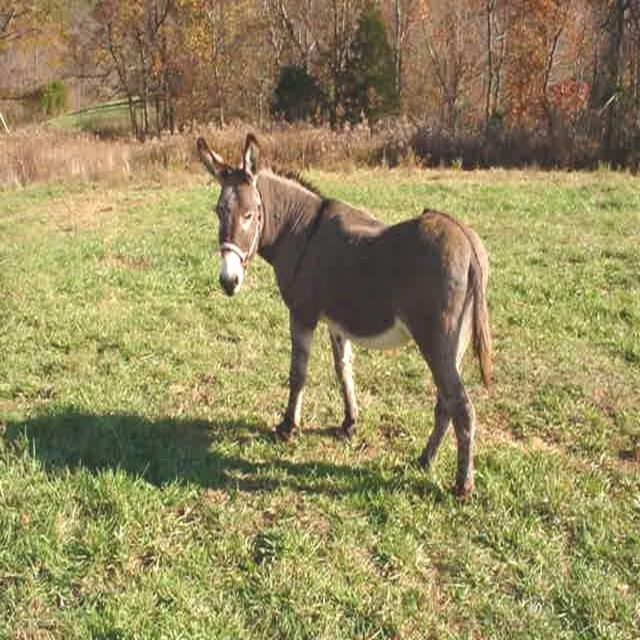Mule: (197, 133, 494, 500)
